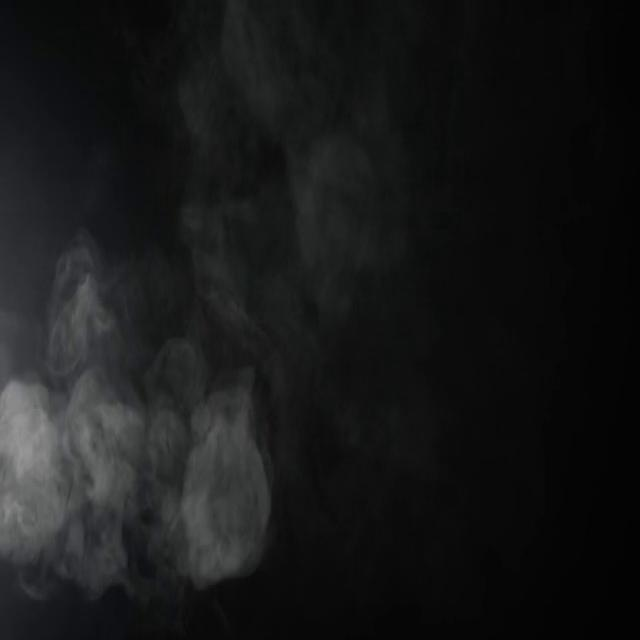smoke: (87, 397, 190, 585), (188, 370, 272, 568), (0, 373, 86, 554), (46, 258, 140, 379)
